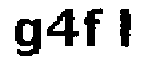4: (44, 6, 80, 49)
f: (83, 6, 105, 52)
g: (9, 16, 42, 59)
l: (114, 9, 142, 51)
